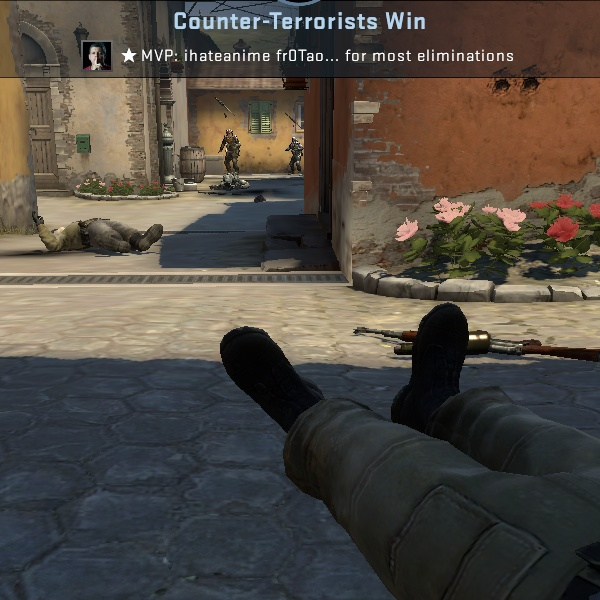t_body: (215, 128, 244, 173)
